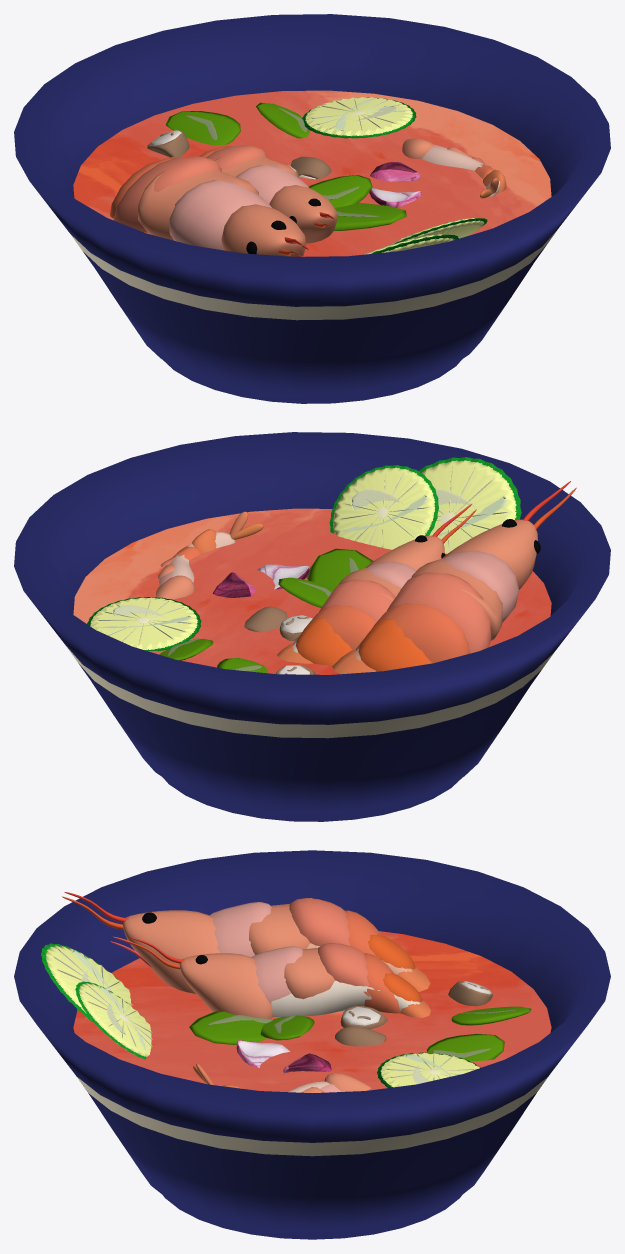
The model's file is TomYumKung.fbx.
3 views of the same model, one above another, from view 1: azimuth 30°, elevation 25°; view 2: azimuth 150°, elevation 25°; view 3: azimuth 270°, elevation 25° (orthographic).
Visible parts, largest first — view 1: Bowl, water, Cube.059, Cube.054, Cylinder.007, Cube.057, Cube.058, Cube.067, bai.003, bai, Cube.062, bai.001 (+9 smaller); view 2: Bowl, water, Cylinder.004, Cylinder.001, Cube.057, Cylinder.007, Cube.056, Cube.054, shrimp, Cube.059, Cube.064, shrimp.001 (+17 smaller); view 3: Bowl, water, Cube.054, Cube.067, Cylinder.004, Cube.061, Cube.057, Cube.059, Cylinder.001, Cube.058, Cylinder.007, Cube.063 (+15 smaller).
Part boxes in pixels (x1,y1,x2,y2): Bowl: (14, 14, 610, 403); water: (73, 90, 551, 256); Cube.059: (169, 180, 271, 250); Cube.054: (221, 204, 305, 256); Cylinder.007: (305, 97, 412, 138); Cube.057: (113, 156, 221, 232); Cube.058: (138, 170, 258, 240); Cube.067: (269, 185, 337, 243); bai.003: (165, 111, 240, 145); bai: (333, 203, 406, 230); Cube.062: (236, 165, 308, 203); bai.001: (308, 175, 372, 207); Bowl: (14, 432, 610, 821); water: (73, 508, 551, 674); Cylinder.004: (332, 467, 434, 549); Cylinder.001: (421, 460, 516, 553); Cube.057: (387, 572, 491, 653); Cylinder.007: (90, 597, 197, 649); Cube.056: (373, 603, 469, 663); Cube.054: (442, 519, 537, 589); shrimp: (358, 618, 432, 671); Cube.059: (443, 550, 518, 622); Cube.064: (319, 579, 395, 621); shrimp.001: (295, 617, 352, 665); Bowl: (14, 850, 610, 1239); water: (73, 931, 551, 1091); Cube.054: (123, 910, 220, 993); Cube.067: (179, 953, 272, 1018); Cylinder.004: (79, 983, 151, 1057); Cube.061: (271, 980, 420, 1017); Cube.057: (289, 898, 350, 946); Cube.059: (209, 902, 271, 957); Cylinder.001: (45, 945, 131, 1019); Cube.058: (249, 898, 312, 954); Cylinder.007: (380, 1052, 479, 1087); Cube.063: (284, 943, 337, 999).
Bounding box in the file's own units: 93.69 × 37.19 × 93.69.
